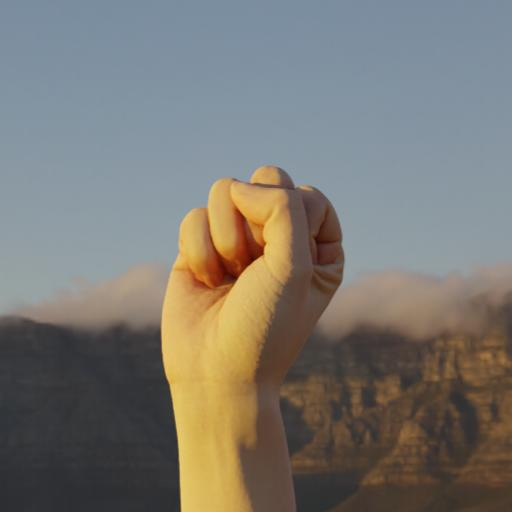S: (134, 156, 358, 512)
